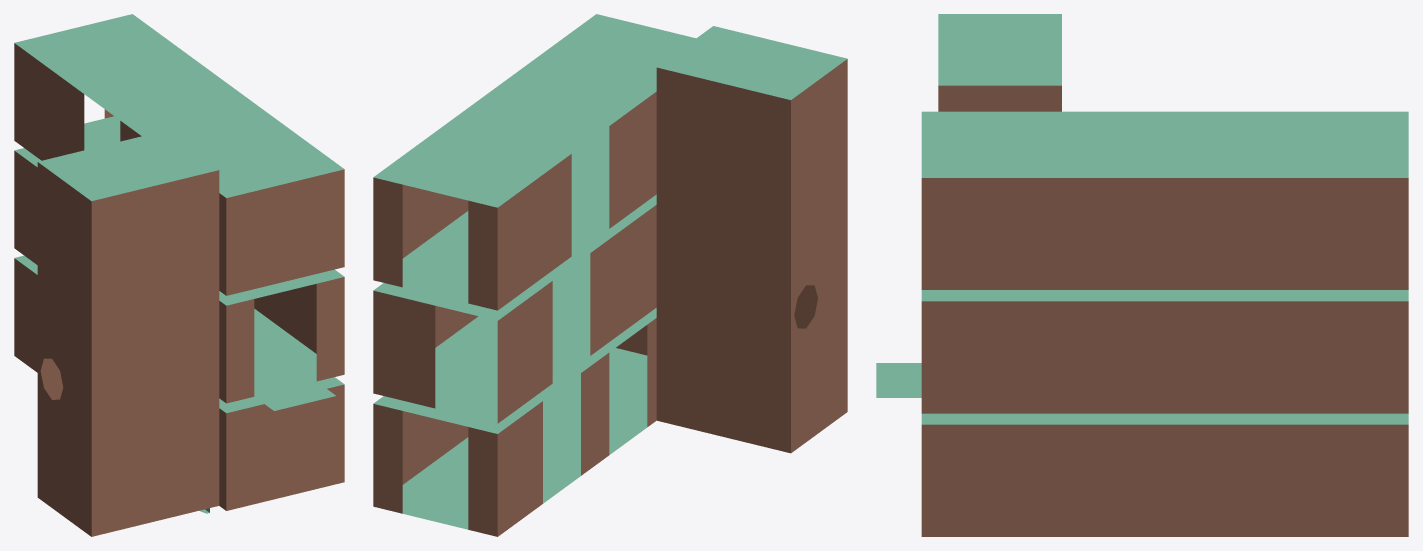
Rendered from SM_geo_MaintenanceCorridor.fbx.
The picture shows the model from 3 angles, left to right: view 1: azimuth 30°, elevation 25°; view 2: azimuth 150°, elevation 25°; view 3: azimuth 270°, elevation 25°; orthographic projection. The views are drawn at different scales.
Visible parts, largest first — view 1: MaintenanceCorridor; view 2: MaintenanceCorridor; view 3: MaintenanceCorridor.
Part boxes in pixels (<box>): MaintenanceCorridor: <box>14,14,344,536</box>; MaintenanceCorridor: <box>373,14,847,536</box>; MaintenanceCorridor: <box>876,14,1408,536</box>.
Size of what is drawn, in the model's own units: 790 by 1045 by 1290.
